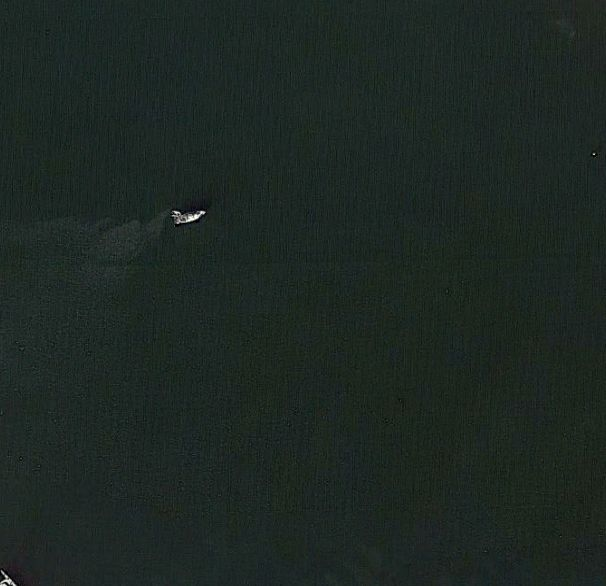boat: (165, 199, 213, 231)
